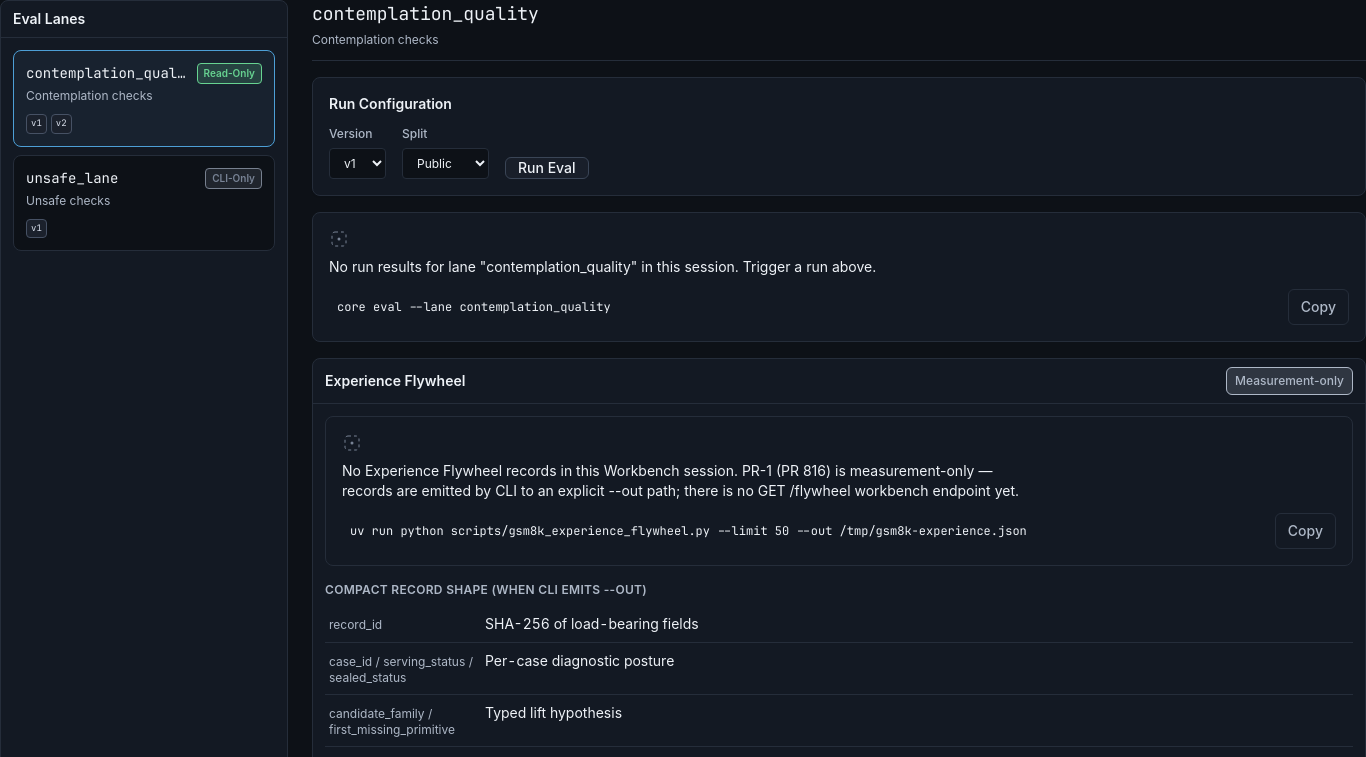
Test: W-030 Component Tests › EvalsRoute › full happy-path with selection, running and result viewing
The width and height of the screenshot is (1366, 757).
Expected: the 1st heading "contemplation_quality" is shown, [312,0,539,28]
Trigger run
Step 1. Click the button with test id "run-button" → (547, 168), box [505,157,588,179]
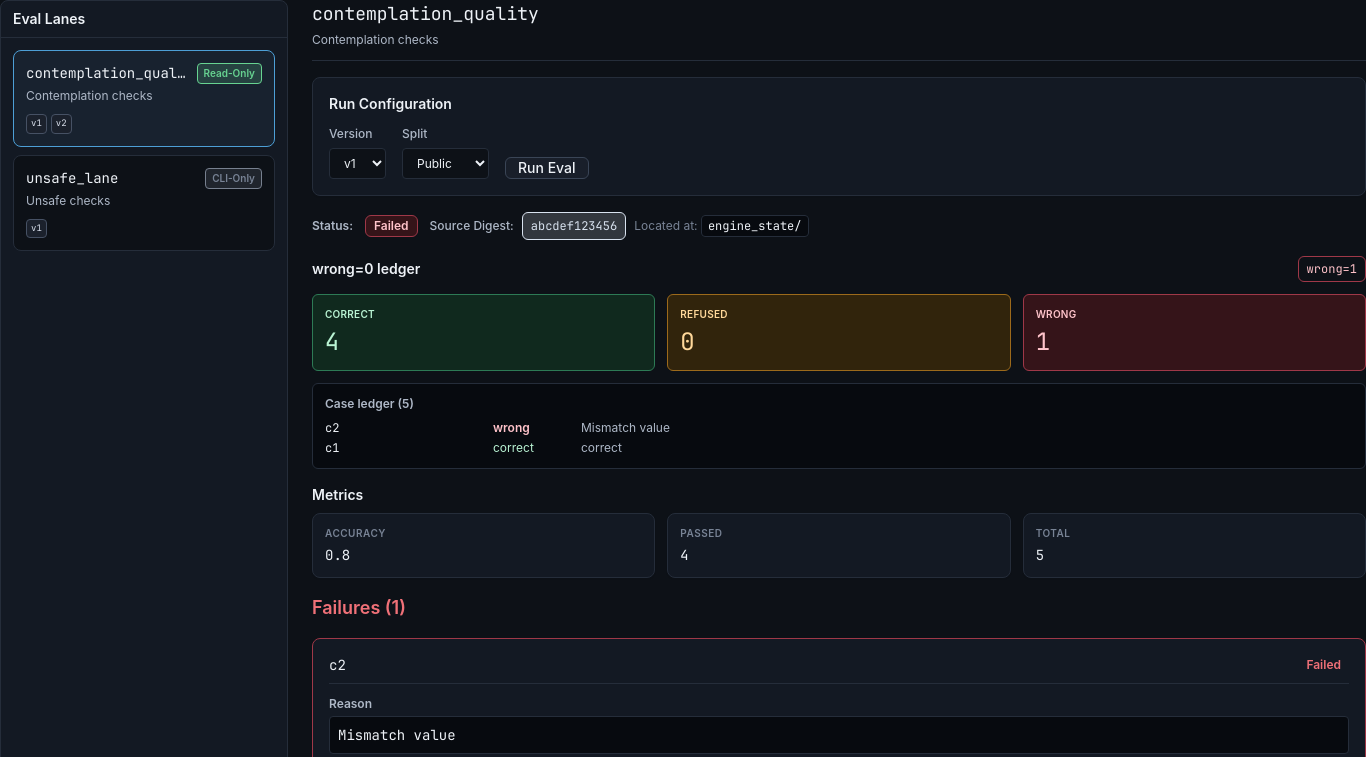
Result: the text "Status:" is shown at [312,218,353,234]
Result: the text "accuracy" is shown at [325,527,386,539]
Result: the element with test id "wrong-zero-ledger" is shown at [312,256,1365,469]
